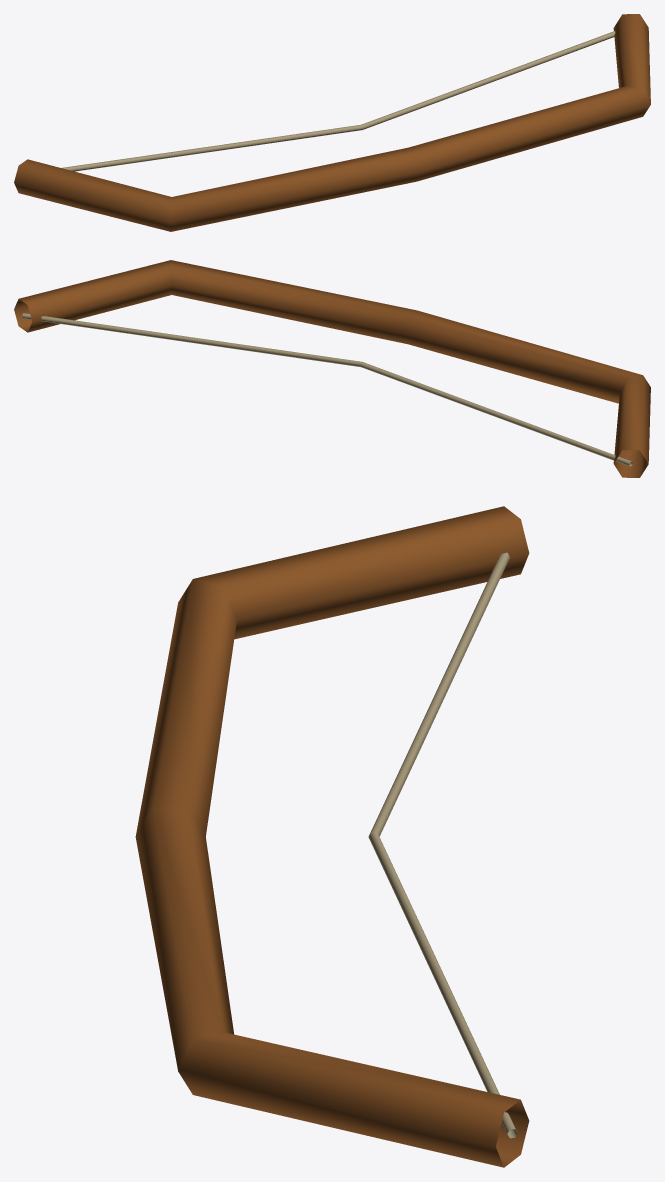
The model's file is greek_composite_bow_LOD2.glb.
3 views of the same model, one above another, from view 1: azimuth 30°, elevation 25°; view 2: azimuth 150°, elevation 25°; view 3: azimuth 270°, elevation 25° (orthographic). The views are drawn at different scales.
Parts seen in each view (by area): view 1: LOD2_Bow, LOD2_String; view 2: LOD2_Bow, LOD2_String; view 3: LOD2_Bow, LOD2_String.
Part boxes in pixels (x1,y1,x2,y2): LOD2_Bow: [14, 14, 650, 231]; LOD2_String: [62, 31, 615, 171]; LOD2_Bow: [14, 260, 650, 477]; LOD2_String: [22, 313, 632, 466]; LOD2_Bow: [135, 506, 529, 1167]; LOD2_String: [368, 552, 517, 1138].
Bounding box in the file's own units: 1.59 × 0.0658 × 0.4262.
